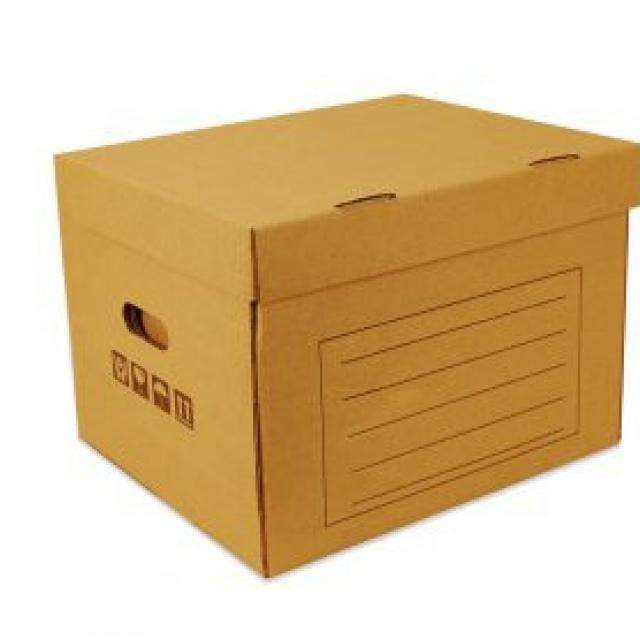box: (37, 71, 640, 585)
